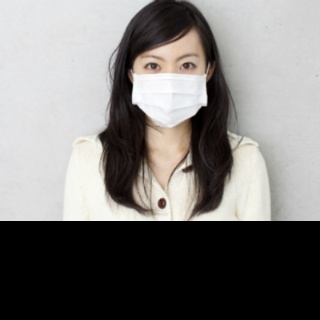with_mask: (132, 53, 208, 128)
